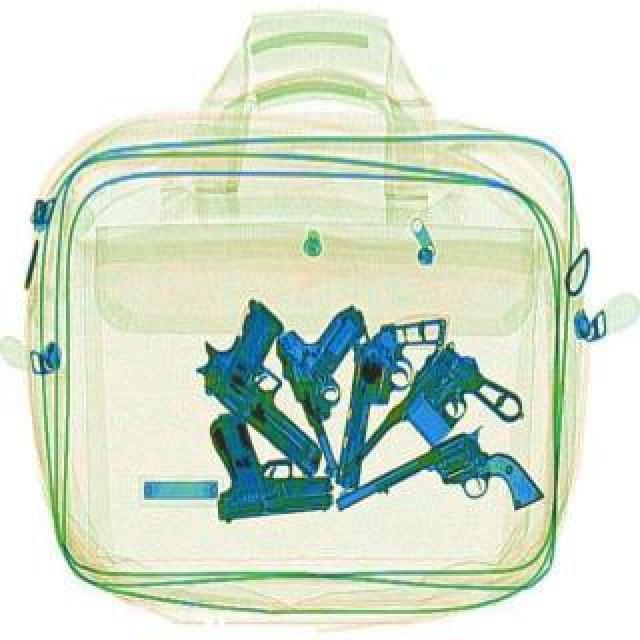gun: (178, 290, 378, 486), (326, 408, 546, 580), (348, 330, 530, 520), (270, 304, 404, 476), (334, 304, 446, 494), (206, 402, 334, 518)
